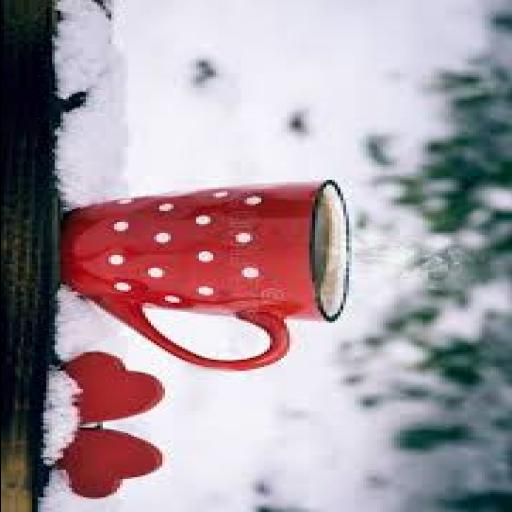red mug: (60, 180, 350, 370)
